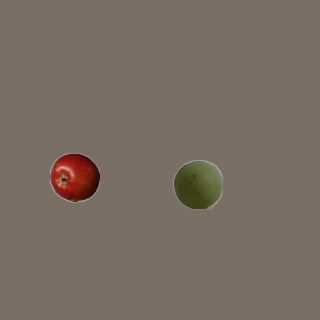Apple Braeburn: (49, 152, 99, 202)
Grape White 4: (172, 159, 222, 209)
